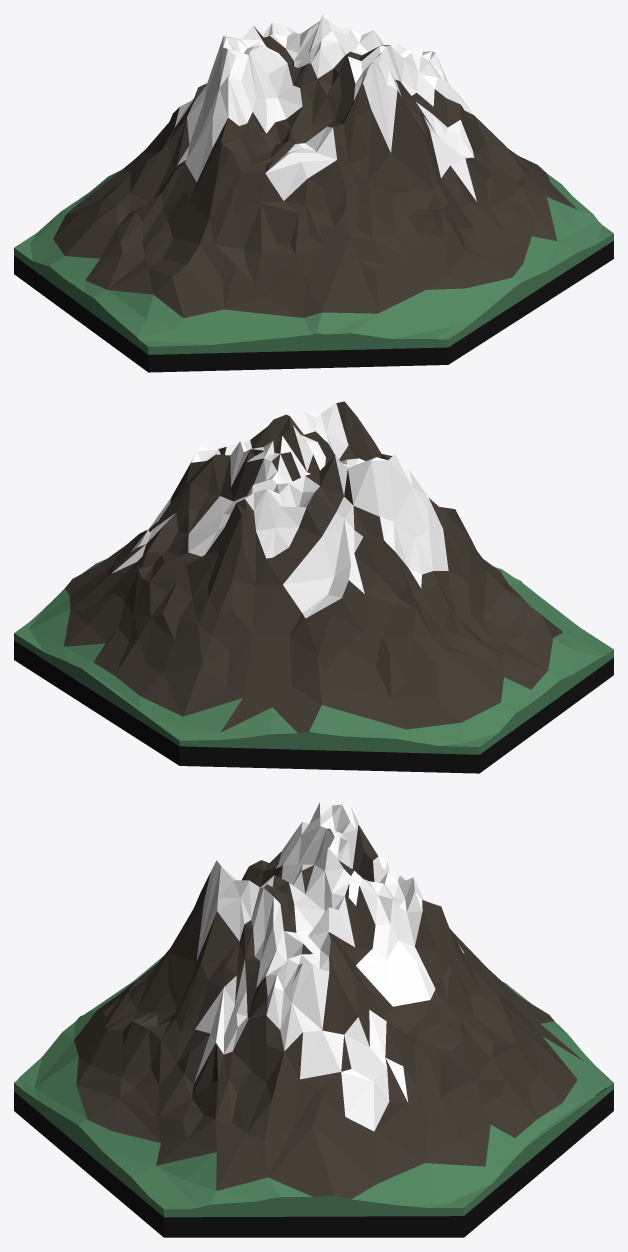
The model's file is Hex Mountain Tile.fbx.
The picture shows the model from 3 angles, top to bottom: view 1: azimuth 30°, elevation 25°; view 2: azimuth 150°, elevation 25°; view 3: azimuth 270°, elevation 25°; orthographic projection. The views are drawn at different scales.
Parts seen in each view (by area): view 1: Landscape.002; view 2: Landscape.002; view 3: Landscape.002.
Part boxes in pixels (x1,y1,x2,y2): Landscape.002: [14, 14, 613, 372]; Landscape.002: [14, 401, 613, 773]; Landscape.002: [14, 802, 613, 1237].
Bounding box in the file's own units: 200 × 100 × 200.
